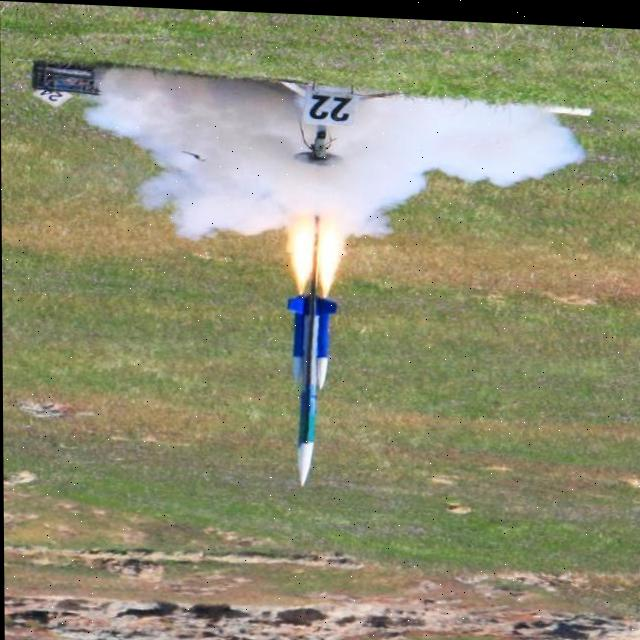missile: (278, 286, 347, 483)
